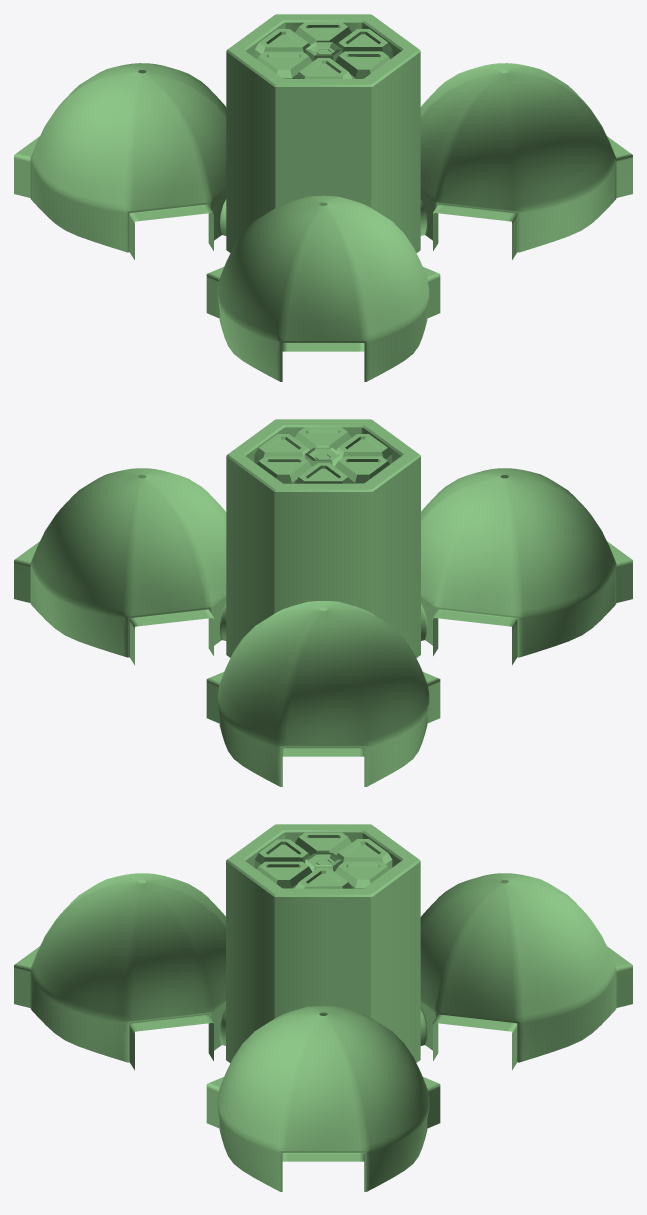
File: CommandCenter.fbx
3 views of the same model, one above another, from view 1: azimuth 30°, elevation 25°; view 2: azimuth 150°, elevation 25°; view 3: azimuth 270°, elevation 25° (orthographic).
Visible parts, largest first — view 1: Object002; view 2: Object002; view 3: Object002.
Boxes of the visible parts, bbox=[...] form: Object002: bbox=[14, 14, 632, 381]; Object002: bbox=[14, 419, 632, 786]; Object002: bbox=[14, 824, 632, 1191].
Bounding box in the file's own units: 13284 × 5405 × 15131.
